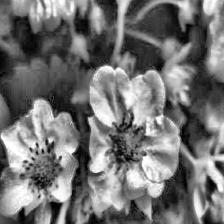Blossom Blight: (102, 110, 150, 172), (19, 138, 66, 201)
